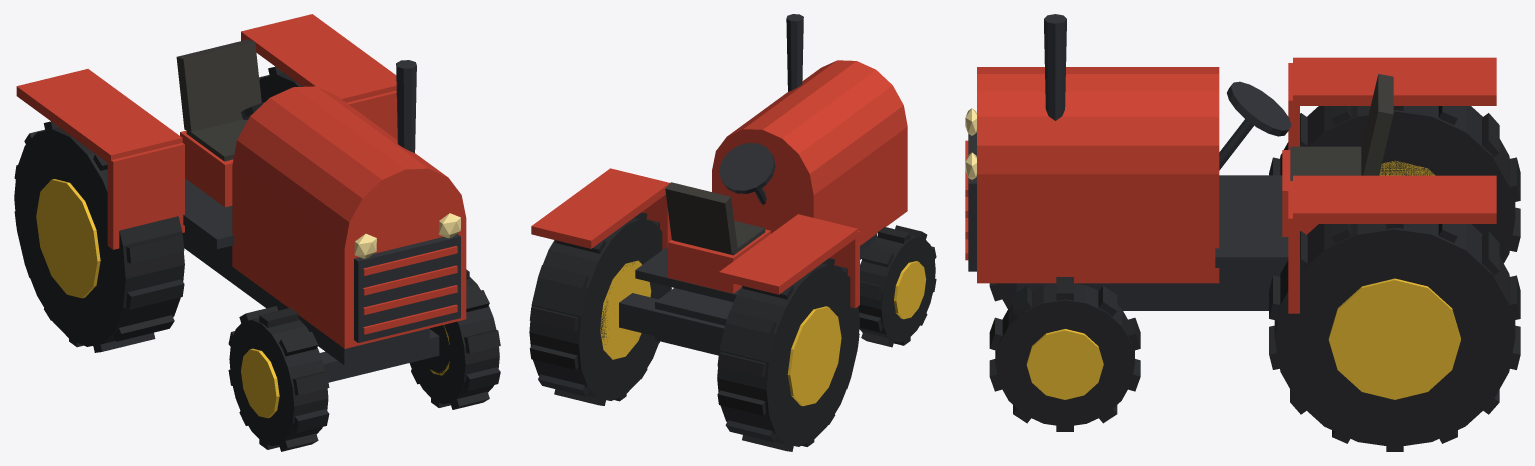
File: f01-traktor.glb
The picture shows the model from 3 angles, left to right: view 1: azimuth 30°, elevation 25°; view 2: azimuth 150°, elevation 25°; view 3: azimuth 270°, elevation 25°; orthographic projection. The views are drawn at different scales.
Visible parts, largest first — view 1: EX_kebun:bodi-merah, EX_kebun:ban-belakang, EX_kebun:bodi-gelap, EX_kebun:ban-depan, EX_kebun:kursi, EX_kebun:velg-belakang, EX_kebun:velg-depan, EX_kebun:lampu; view 2: EX_kebun:bodi-merah, EX_kebun:ban-belakang, EX_kebun:bodi-gelap, EX_kebun:velg-belakang, EX_kebun:ban-depan, EX_kebun:kursi, EX_kebun:velg-depan; view 3: EX_kebun:bodi-merah, EX_kebun:ban-belakang, EX_kebun:bodi-gelap, EX_kebun:ban-depan, EX_kebun:velg-belakang, EX_kebun:kursi, EX_kebun:velg-depan, EX_kebun:lampu.
Boxes of the visible parts, box(x1,y1,x2,y2) form: EX_kebun:bodi-merah: box(16, 14, 466, 348); EX_kebun:ban-belakang: box(14, 66, 302, 352); EX_kebun:bodi-gelap: box(182, 60, 460, 382); EX_kebun:ban-depan: box(228, 269, 500, 451); EX_kebun:kursi: box(176, 39, 261, 161); EX_kebun:velg-belakang: box(36, 179, 100, 298); EX_kebun:velg-depan: box(241, 325, 449, 418); EX_kebun:lampu: box(354, 213, 460, 258); EX_kebun:bodi-merah: box(531, 60, 907, 308); EX_kebun:ban-belakang: box(529, 212, 859, 451); EX_kebun:bodi-gelap: box(619, 14, 877, 355); EX_kebun:velg-belakang: box(600, 260, 841, 406); EX_kebun:ban-depan: box(858, 225, 936, 347); EX_kebun:kursi: box(665, 182, 765, 255); EX_kebun:velg-depan: box(894, 261, 926, 319); EX_kebun:bodi-merah: box(965, 57, 1496, 313); EX_kebun:ban-belakang: box(1269, 106, 1520, 451); EX_kebun:bodi-gelap: box(968, 14, 1379, 310); EX_kebun:ban-depan: box(989, 277, 1140, 431); EX_kebun:velg-belakang: box(1328, 160, 1460, 399); EX_kebun:kursi: box(1290, 74, 1393, 180); EX_kebun:velg-depan: box(1026, 329, 1103, 399); EX_kebun:lampu: box(965, 108, 976, 179).
Bounding box in the file's own units: 1.9 × 2.16 × 2.86.
